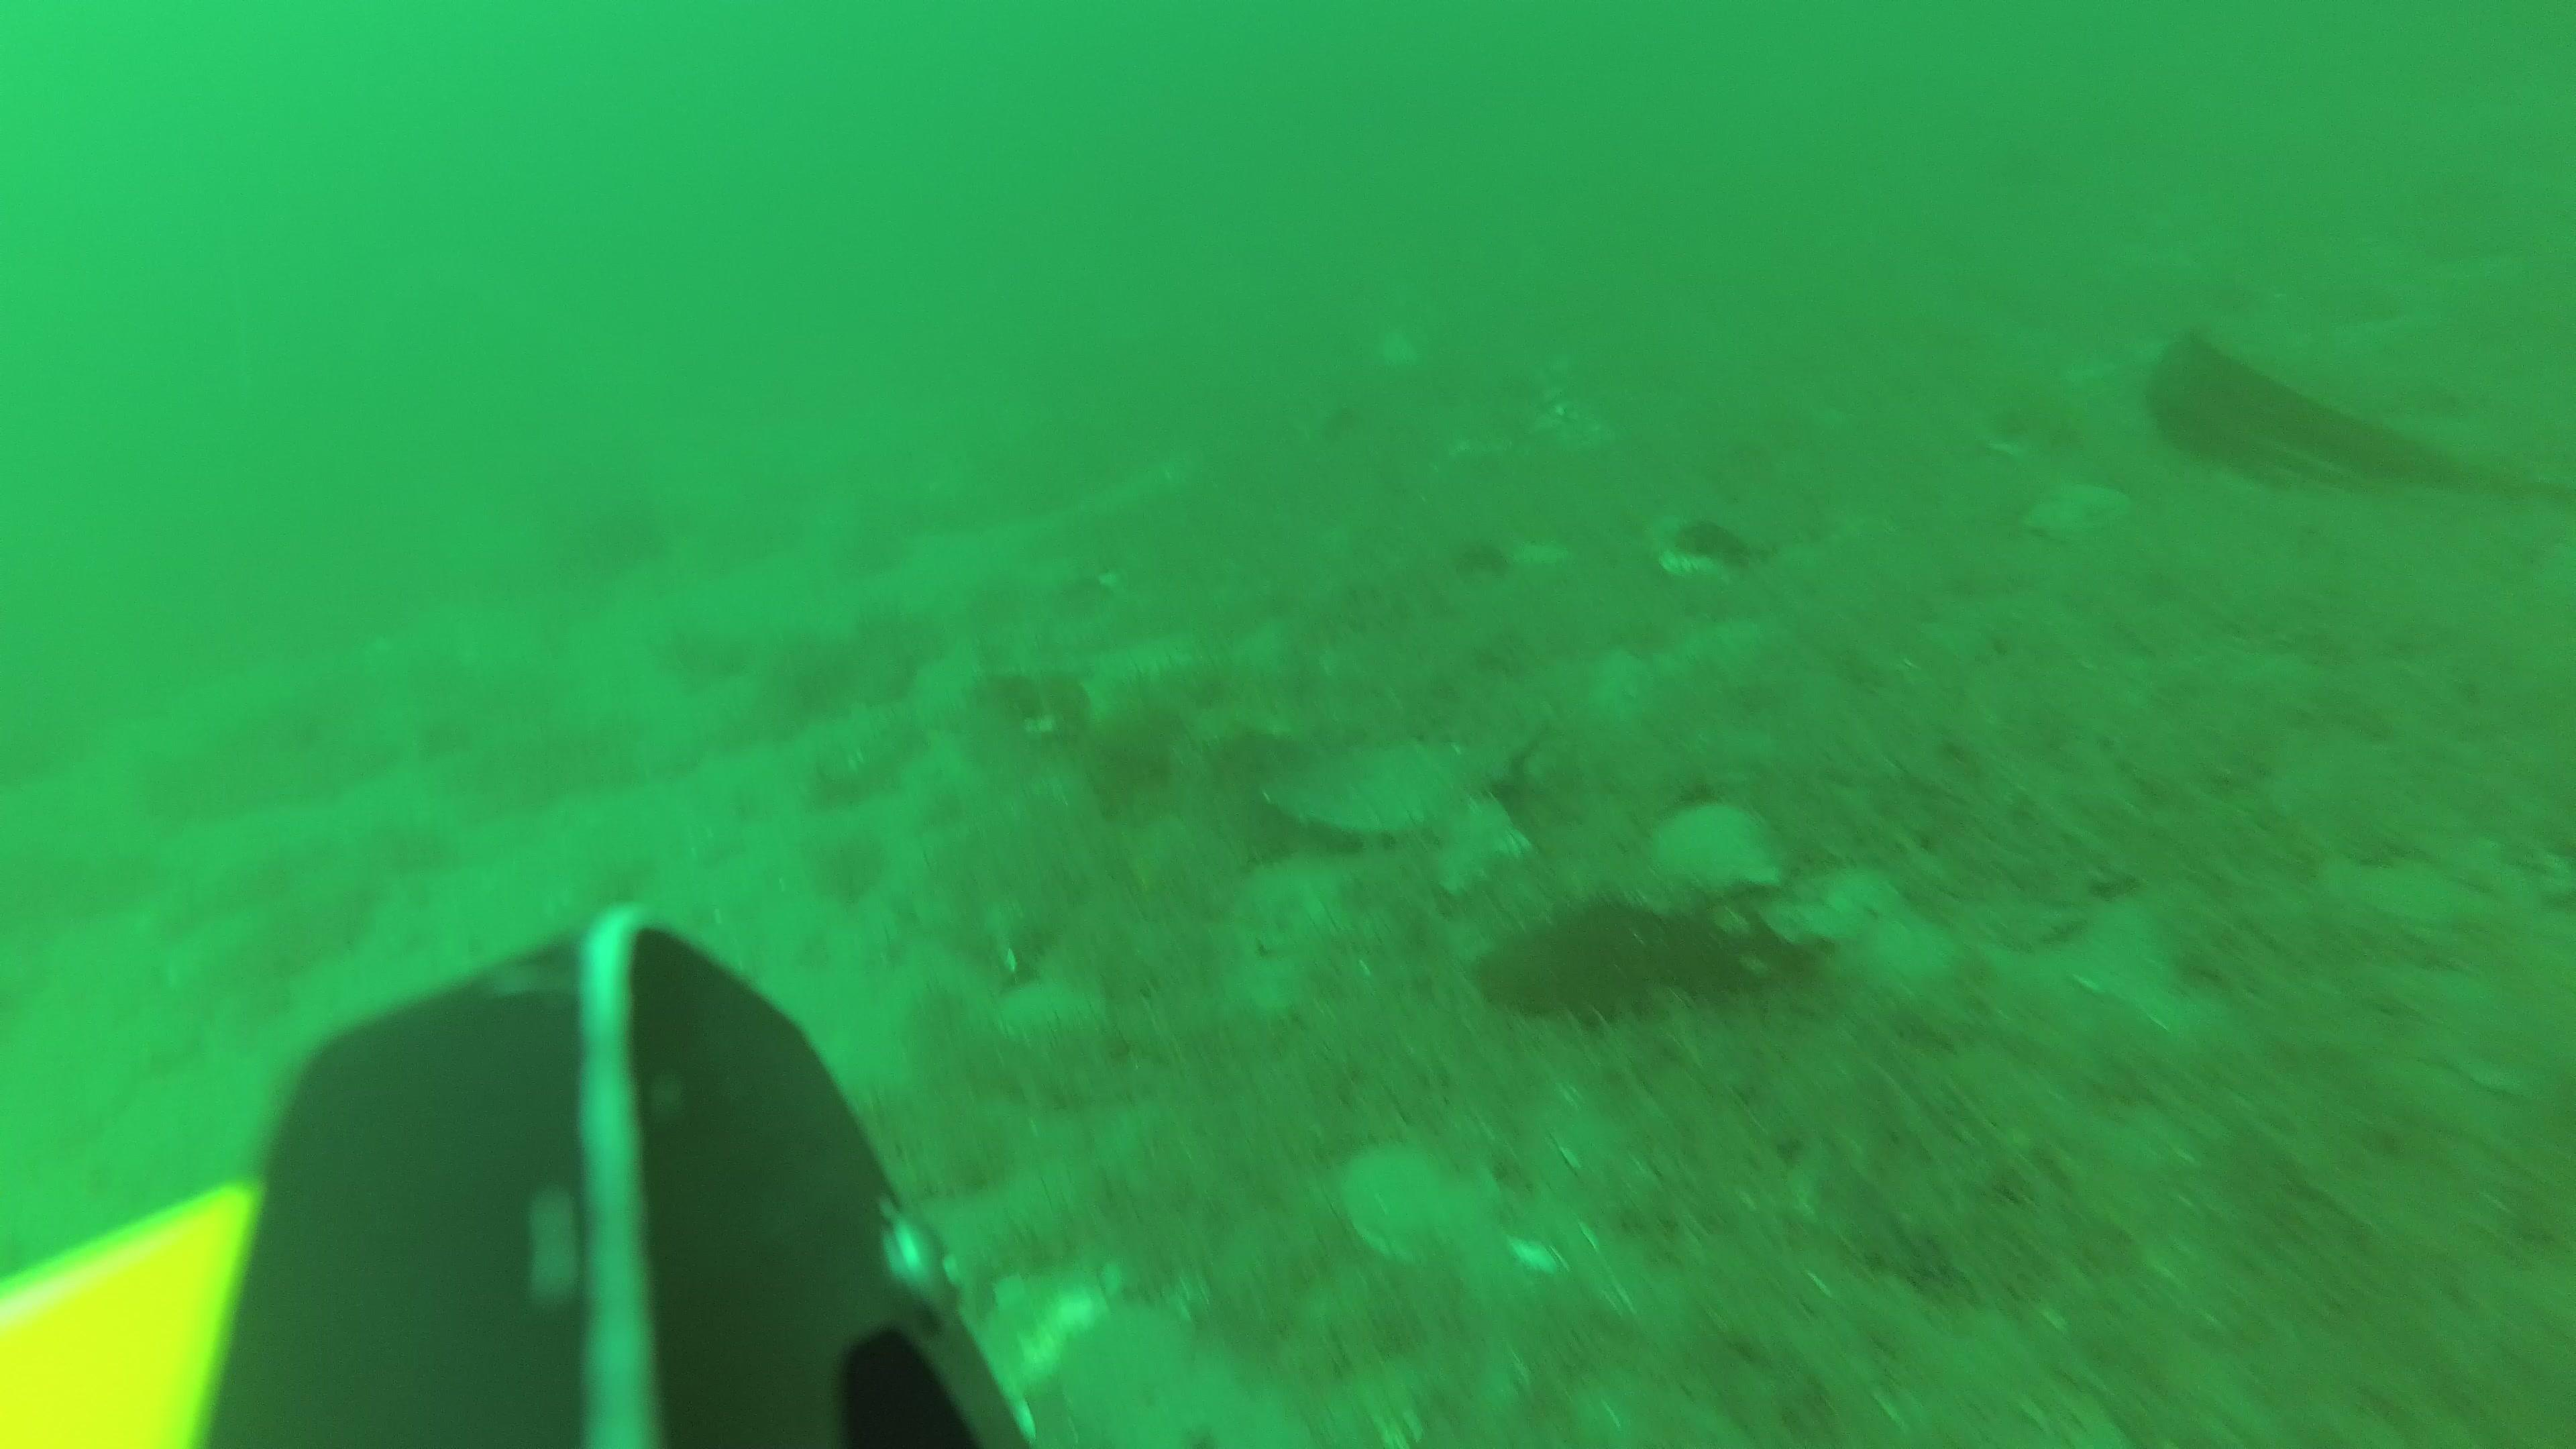scallop: (1352, 1139, 1500, 1261), (1661, 796, 1780, 904), (1431, 801, 1532, 899), (996, 987, 1104, 1049), (2026, 481, 2130, 545)
